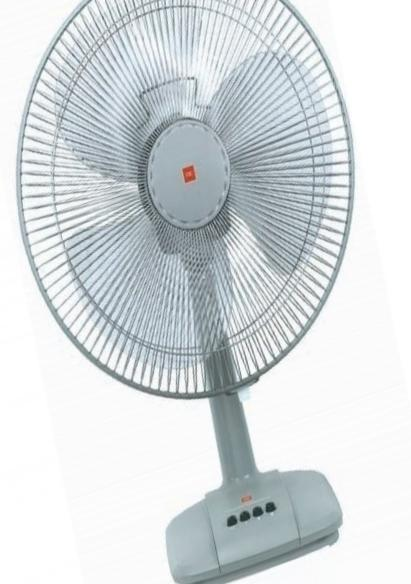fan: (14, 2, 389, 584)
